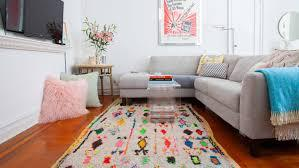TV: (0, 0, 69, 43)
door: (225, 0, 258, 53)
sofa: (113, 50, 299, 161)
table: (147, 73, 185, 118), (77, 63, 119, 98)
